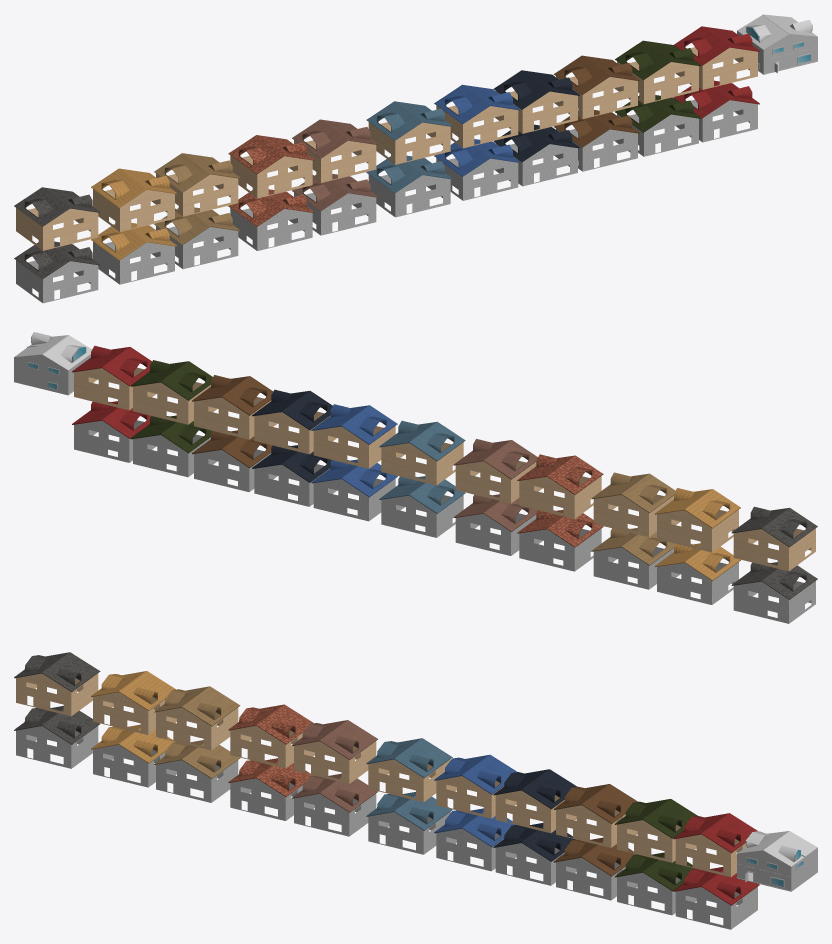
Rendered from House_005_withVariations.fbx.
The picture shows the model from 3 angles, top to bottom: view 1: azimuth 30°, elevation 25°; view 2: azimuth 150°, elevation 25°; view 3: azimuth 330°, elevation 25°; orthographic projection.
Parts seen in each view (by area): view 1: house005_exterior_v1_11, house005_exterior_v1_10, house005_exterior_v1_8, house005_exterior_v1_6, house005_exterior_v2_11, house005_exterior_v2_10, house005_exterior_v2_8, house005_exterior_v2_6, house005_exterior_v1_5, house005_exterior_v1_7, house005_exterior_v1_9, house005_exterior_v2_5 (+11 smaller); view 2: house005_exterior_v1_11, house005_exterior_v1_10, house005_exterior_v1_6, house005_exterior_v1_8, house005_exterior_v1_5, house005_exterior_v2_11, house005_exterior_v2_10, house005_exterior_v2_6, house005_exterior_v2_8, house005_exterior_v1_7, house005_exterior_v1_9, house005_exterior_v2_5 (+11 smaller); view 3: house005_exterior_v1_11, house005_exterior_v1_9, house005_exterior_v1_7, house005_exterior_v2_11, house005_exterior_v2_7, house005_exterior_v1_6, house005_exterior_v2_1, house005_exterior_v2_9, House005_interior_01, house005_exterior_v1_8, house005_exterior_v2_6, house005_exterior_v1_10 (+11 smaller).
Boxes of the visible parts, <box> form: house005_exterior_v1_11: <box>14,187,100,250</box>; house005_exterior_v1_10: <box>91,168,176,231</box>; house005_exterior_v1_8: <box>228,135,314,198</box>; house005_exterior_v1_6: <box>366,101,452,164</box>; house005_exterior_v2_11: <box>14,241,100,303</box>; house005_exterior_v2_10: <box>91,223,176,284</box>; house005_exterior_v2_8: <box>228,189,314,250</box>; house005_exterior_v2_6: <box>366,155,452,217</box>; house005_exterior_v1_5: <box>434,84,520,148</box>; house005_exterior_v1_7: <box>292,119,378,182</box>; house005_exterior_v1_9: <box>154,153,240,216</box>; house005_exterior_v2_5: <box>434,139,520,200</box>; house005_exterior_v1_11: <box>731,506,817,571</box>; house005_exterior_v1_10: <box>655,488,740,552</box>; house005_exterior_v1_6: <box>379,420,465,485</box>; house005_exterior_v1_8: <box>517,454,603,518</box>; house005_exterior_v1_5: <box>311,404,397,468</box>; house005_exterior_v2_11: <box>731,562,817,623</box>; house005_exterior_v2_10: <box>654,543,740,604</box>; house005_exterior_v2_6: <box>379,476,465,537</box>; house005_exterior_v2_8: <box>517,510,603,571</box>; house005_exterior_v1_7: <box>454,439,537,503</box>; house005_exterior_v1_9: <box>591,472,675,536</box>; house005_exterior_v2_5: <box>311,459,397,521</box>; house005_exterior_v1_11: <box>14,652,100,716</box>; house005_exterior_v1_9: <box>154,686,240,750</box>; house005_exterior_v1_7: <box>292,720,377,783</box>; house005_exterior_v2_11: <box>14,706,99,768</box>; house005_exterior_v2_7: <box>292,773,377,836</box>; house005_exterior_v1_6: <box>366,738,452,802</box>; house005_exterior_v2_1: <box>673,867,759,929</box>; house005_exterior_v2_9: <box>154,740,240,802</box>; House005_interior_01: <box>737,831,817,891</box>; house005_exterior_v1_8: <box>228,704,313,768</box>; house005_exterior_v2_6: <box>366,792,452,854</box>; house005_exterior_v1_10: <box>91,671,175,734</box>.
Size of the model in its own units: 976 by 108 by 65.69.
